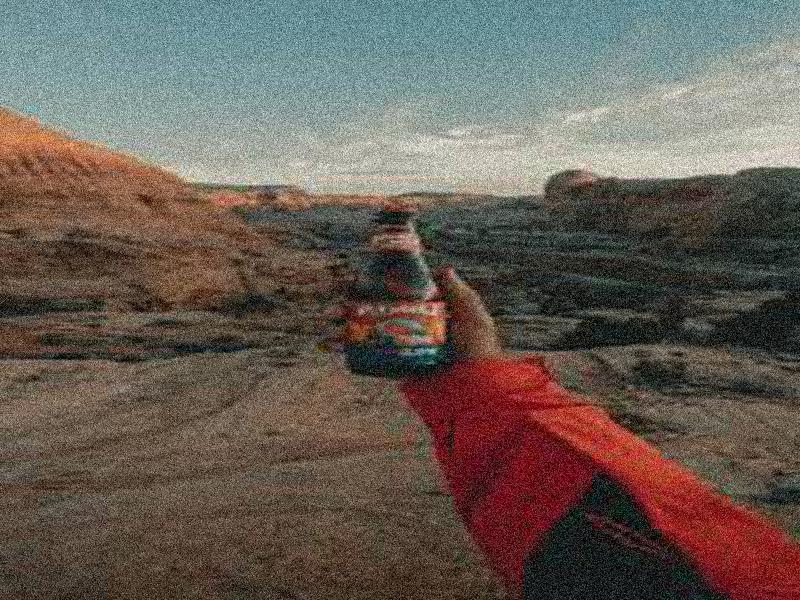Beer: (341, 210, 457, 375)
